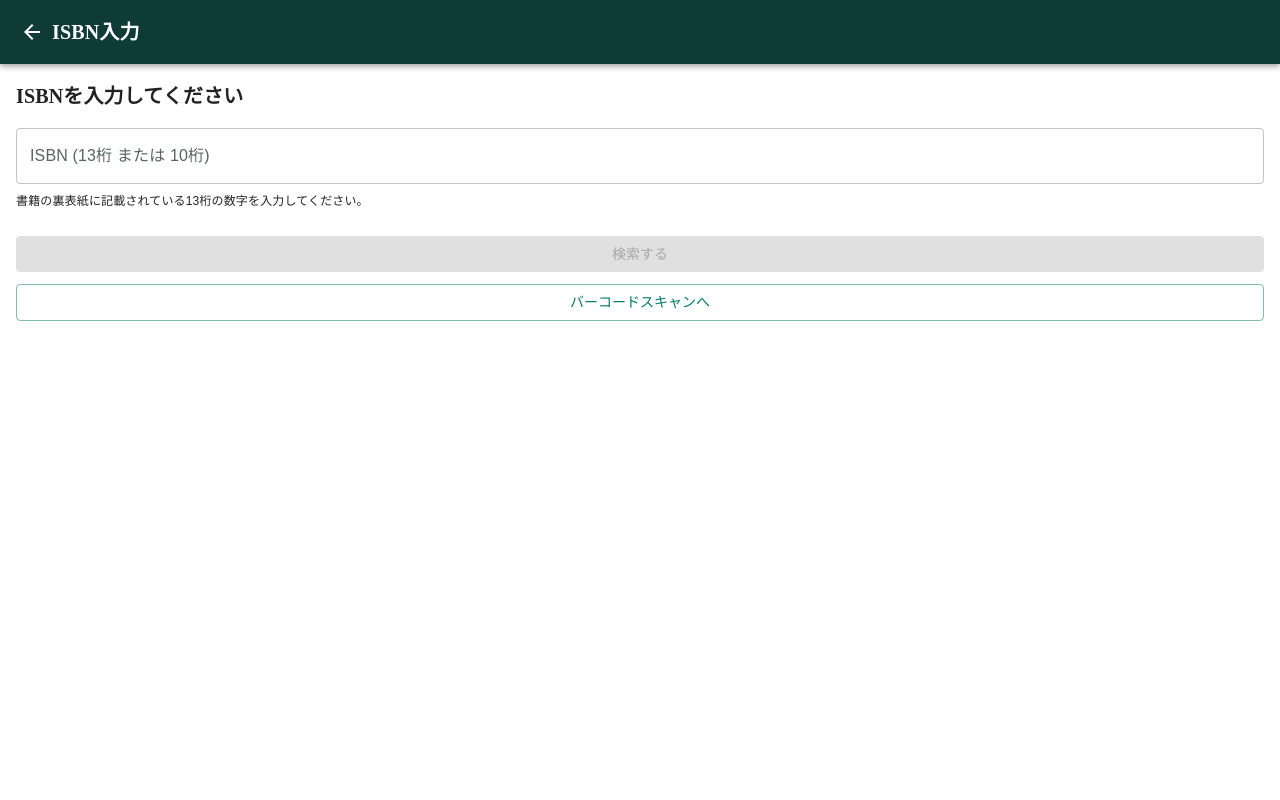
Test case: IsbnInputPage › 履歴が無いとき戻るボタンでホームへ遷移する
Click the button named "戻る": (32, 32) x1=12 y1=12 x2=52 y2=52
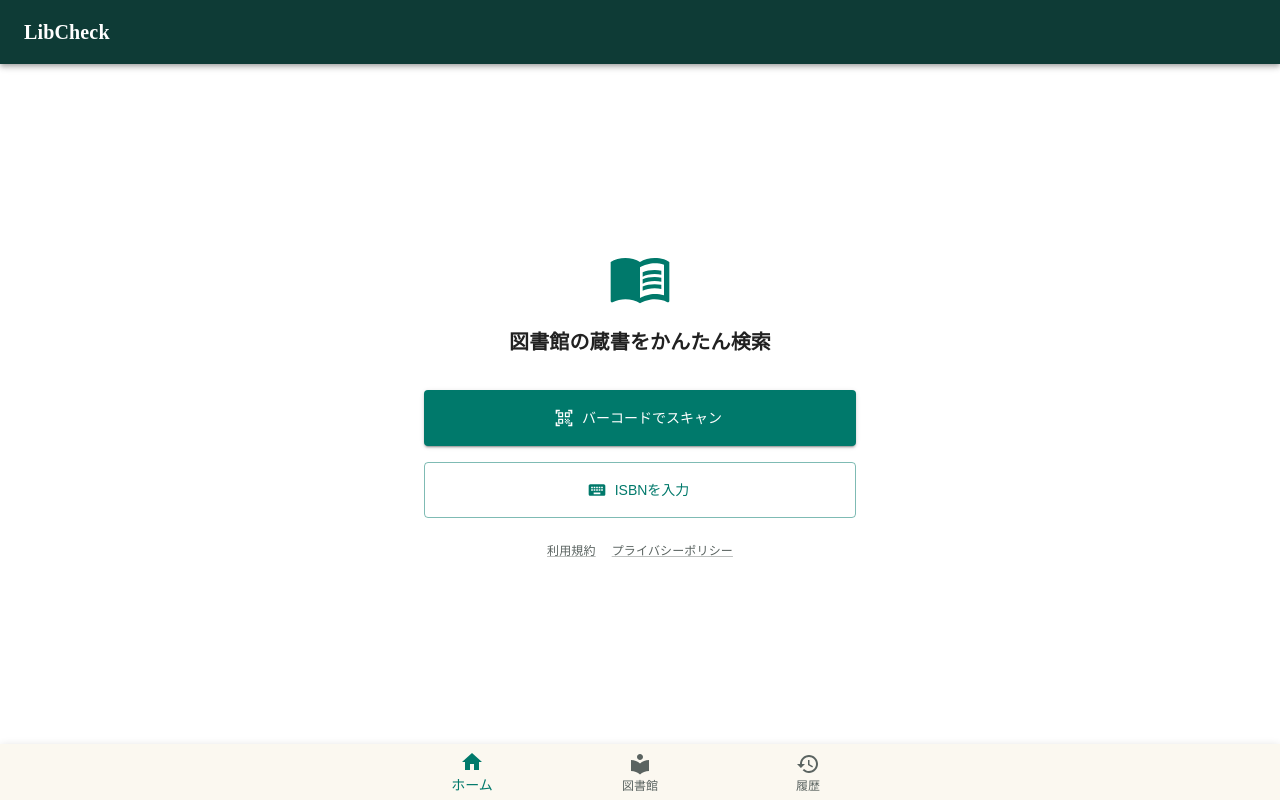
Result: the text "LibCheck" is shown at x1=24 y1=21 x2=110 y2=43
